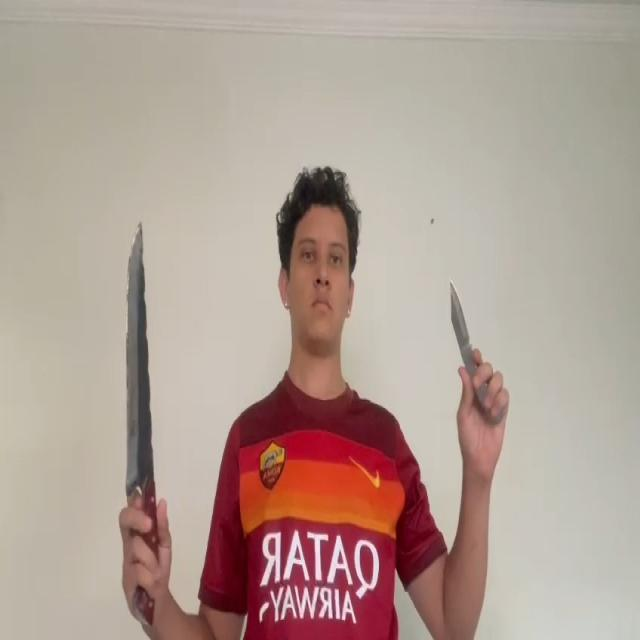knife: (124, 218, 154, 494), (449, 279, 470, 342)
